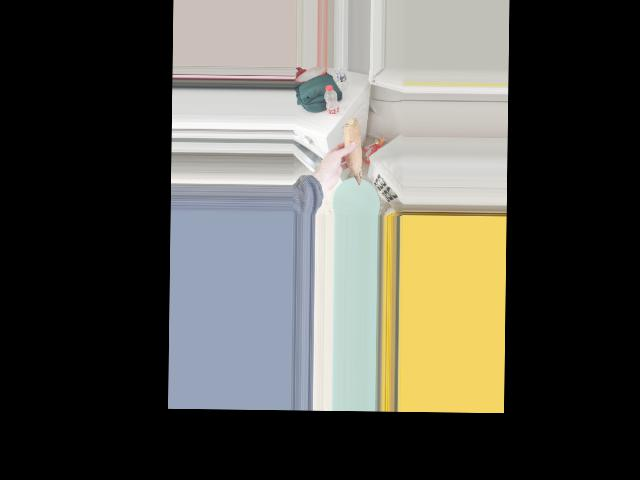sweet_potato: (342, 120, 367, 185)
